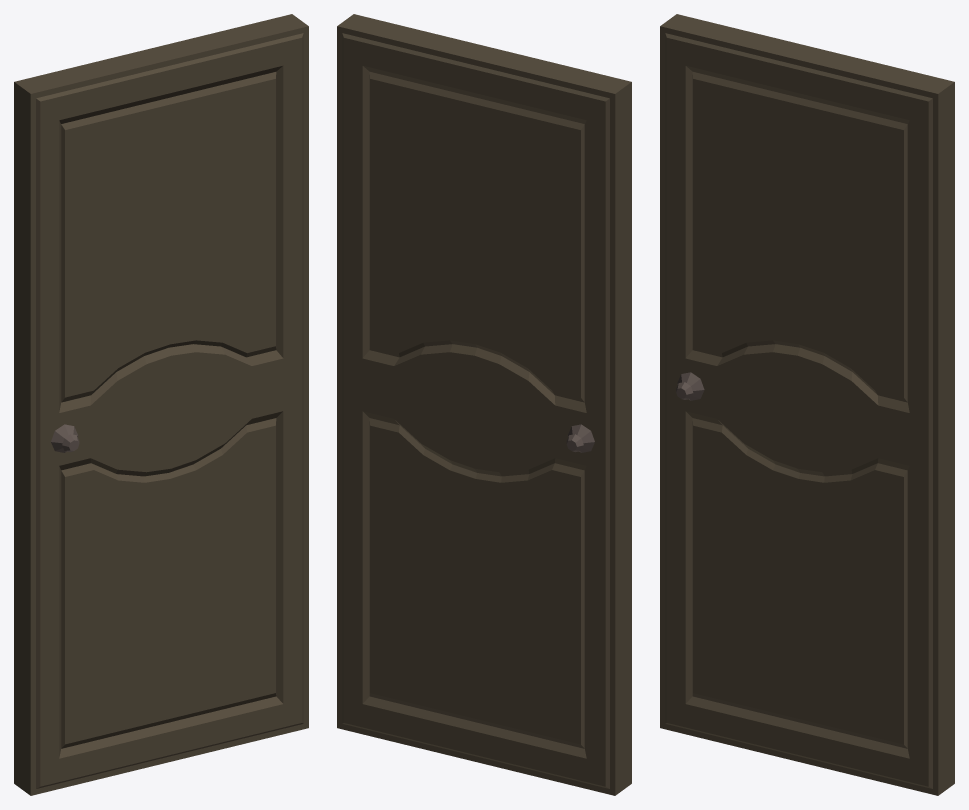
Rendered from Door_4.gltf.
3 views of the same model, side by side, from view 1: azimuth 30°, elevation 25°; view 2: azimuth 150°, elevation 25°; view 3: azimuth 330°, elevation 25° (orthographic).
Visible parts, largest first — view 1: Door_4; view 2: Door_4; view 3: Door_4.
Part boxes in pixels (box(x1,y1,x2,y2)): Door_4: box(14, 14, 308, 795); Door_4: box(337, 14, 631, 795); Door_4: box(660, 14, 954, 795).
Bounding box in the file's own units: 1.74 × 4.2 × 0.4211.
